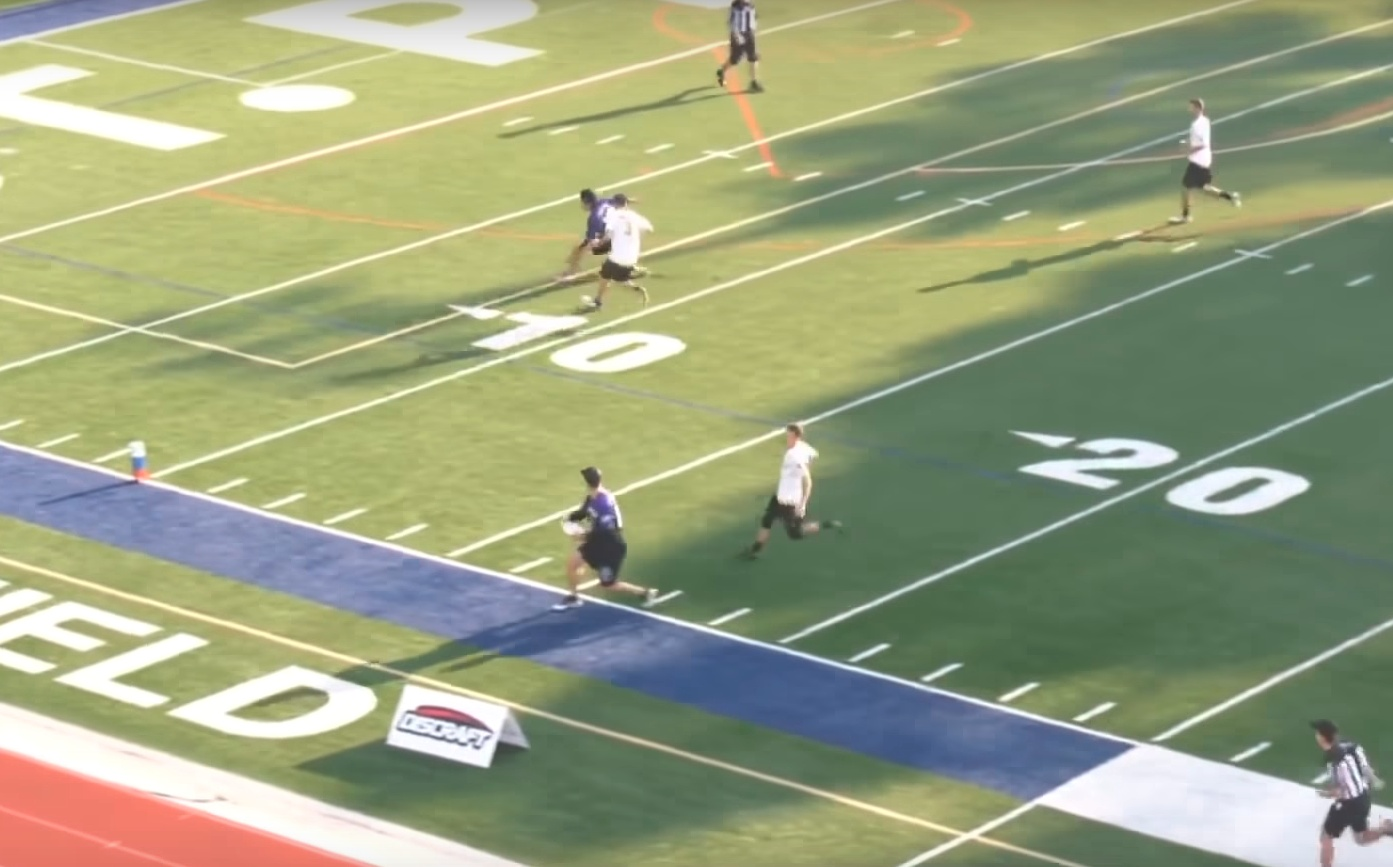frisbee: (561, 520, 586, 536)
